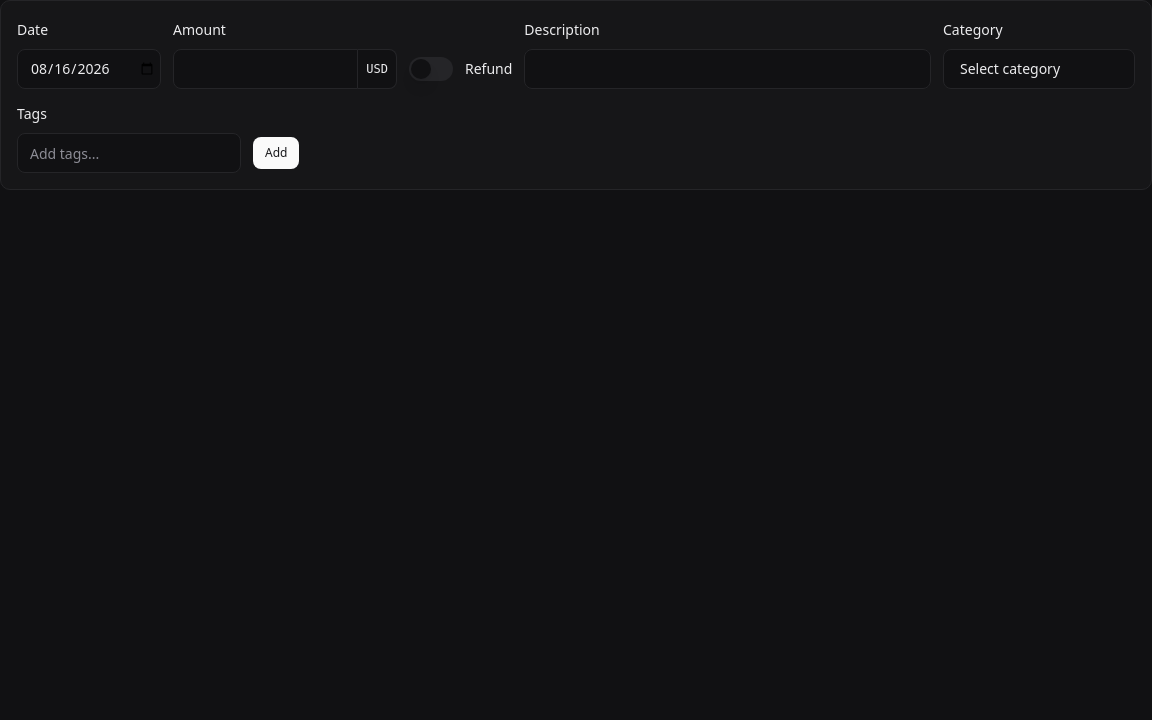
Test: TransactionEntryRow › filters the category list as the user types in the picker
Click the button "Select category": (1039, 69) [943,49,1135,89]
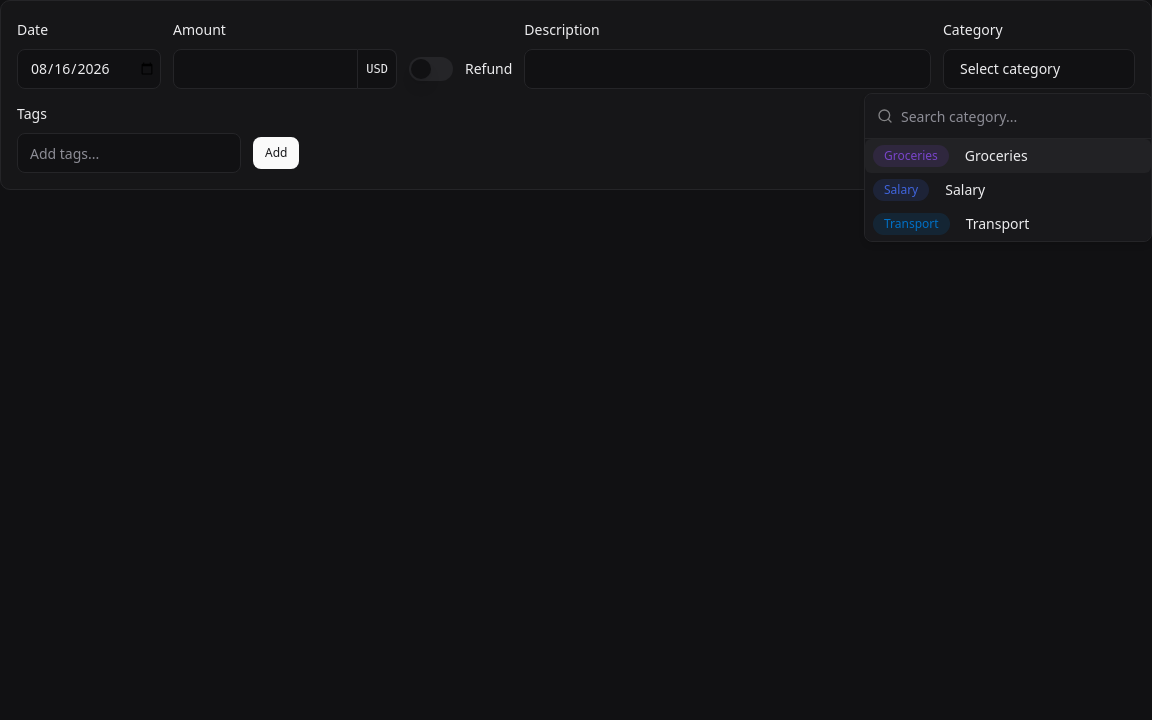
In the dropdown with placeholder "Search category...": (1020, 116) [901,94,1139,138], type "tra"
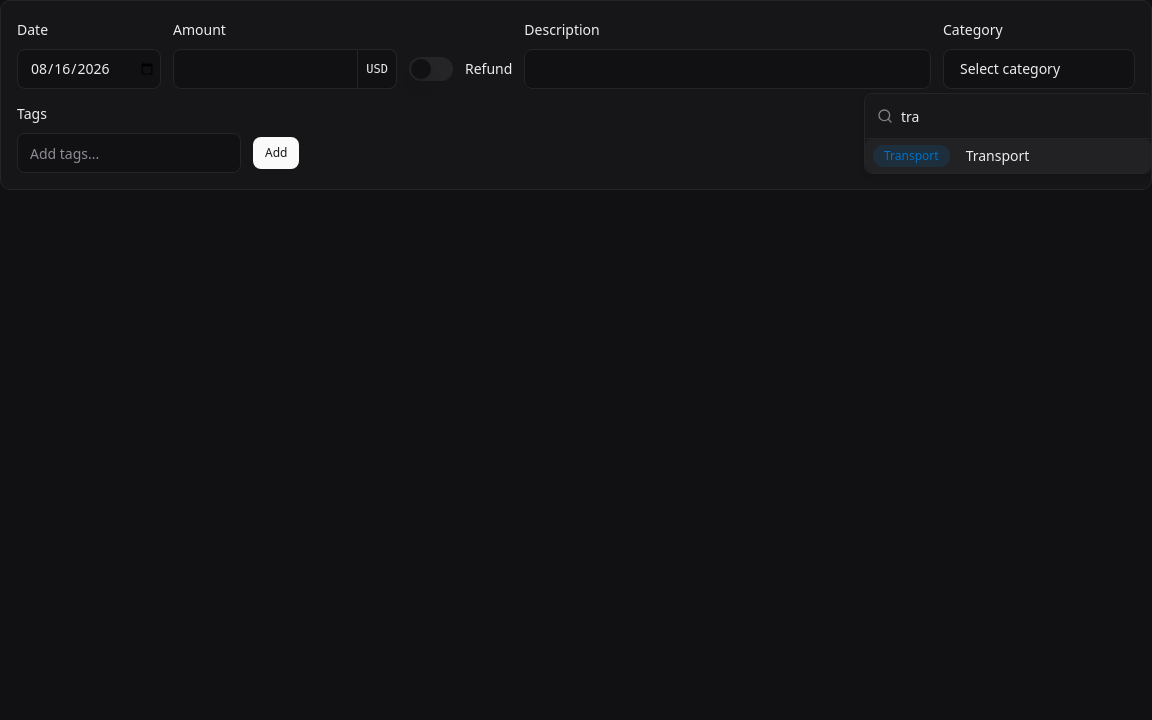
Now the option "Transport Transport" is shown, box [865,139,1151,173]
Now the option "Groceries" is gone
Now the option "Salary" is gone
